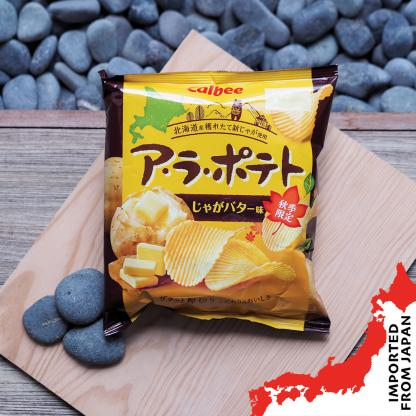potatochip: (98, 62, 339, 342)
